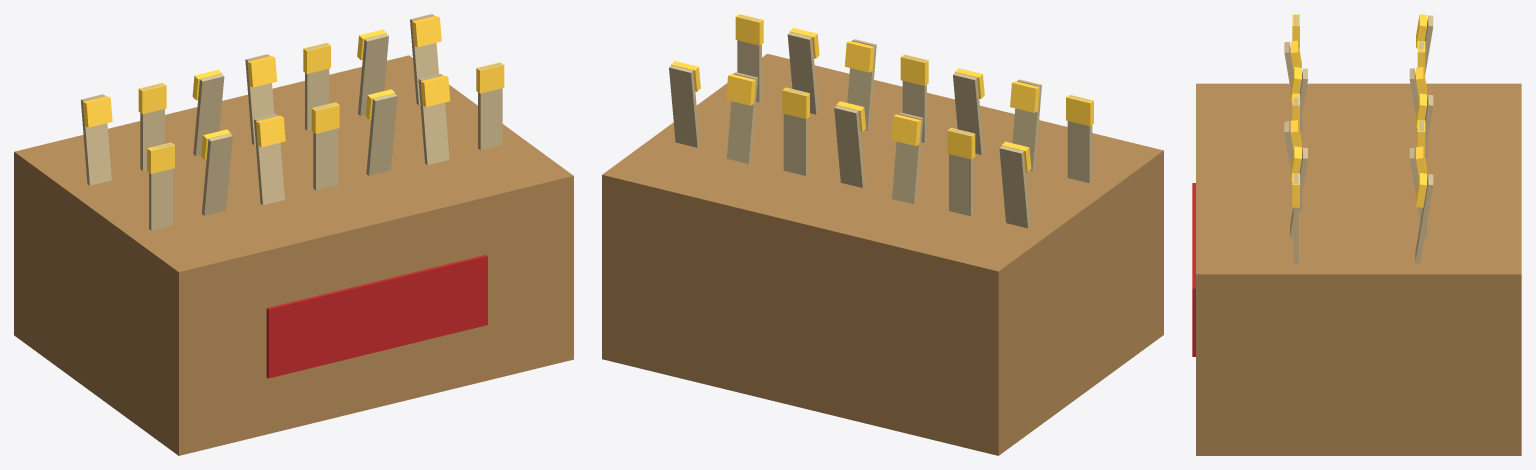
Rendered from prize_sticks.glb.
The picture shows the model from 3 angles, left to right: view 1: azimuth 30°, elevation 25°; view 2: azimuth 150°, elevation 25°; view 3: azimuth 270°, elevation 25°; orthographic projection.
Parts seen in each view (by area): view 1: box_sticks_box, stick_stick_wood, label_sticks_label, tip_stick_gold; view 2: box_sticks_box, stick_stick_wood, tip_stick_gold; view 3: box_sticks_box, stick_stick_wood, tip_stick_gold, label_sticks_label.
Boxes of the visible parts, x1,y1,x2,y2 form: box_sticks_box: [14, 55, 573, 455]; stick_stick_wood: [81, 14, 502, 230]; label_sticks_label: [266, 255, 487, 378]; tip_stick_gold: [83, 16, 504, 173]; box_sticks_box: [602, 54, 1163, 455]; stick_stick_wood: [669, 15, 1092, 228]; tip_stick_gold: [671, 14, 1093, 172]; box_sticks_box: [1196, 83, 1521, 455]; stick_stick_wood: [1284, 15, 1433, 263]; tip_stick_gold: [1290, 14, 1426, 207]; label_sticks_label: [1192, 183, 1195, 356].
Bounding box in the file's own units: 0.36 × 0.2303 × 0.263.
